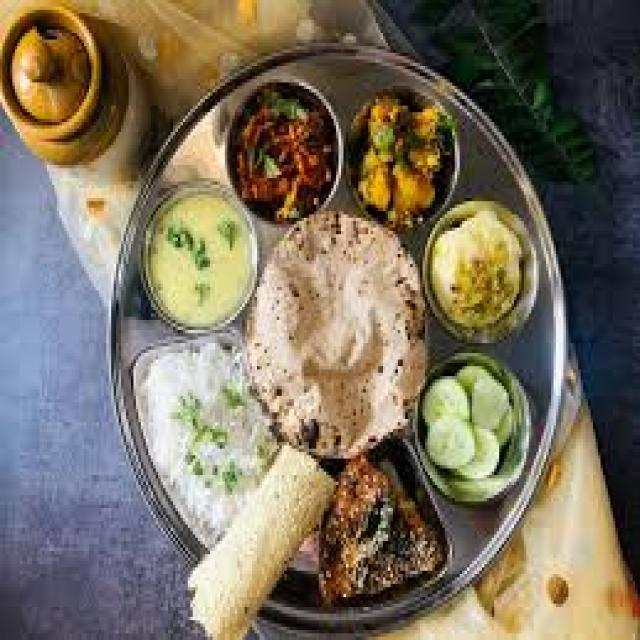dal: (132, 184, 261, 337), (424, 201, 540, 338)
papad: (236, 203, 432, 463), (187, 424, 332, 632)
rice: (127, 336, 283, 542)
sweet: (425, 198, 539, 338), (1, 13, 107, 142)
veg-fry: (304, 455, 451, 627), (346, 83, 456, 233)
